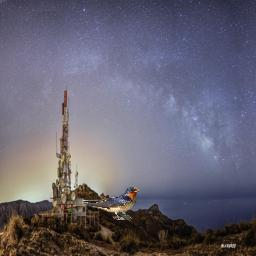Swallow: (82, 187, 140, 220)
